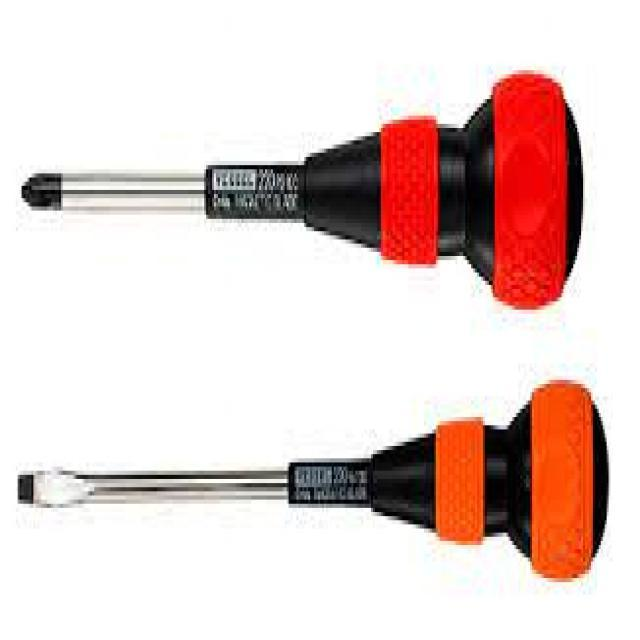screwdriver: (18, 70, 584, 314), (16, 378, 610, 584)
